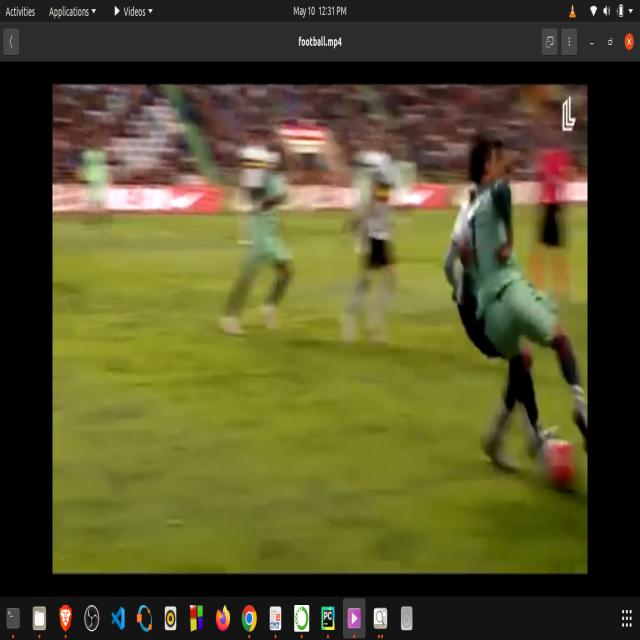Ball: (535, 424, 581, 505)
football-players: (443, 139, 587, 526), (220, 112, 306, 350), (335, 122, 410, 372)
